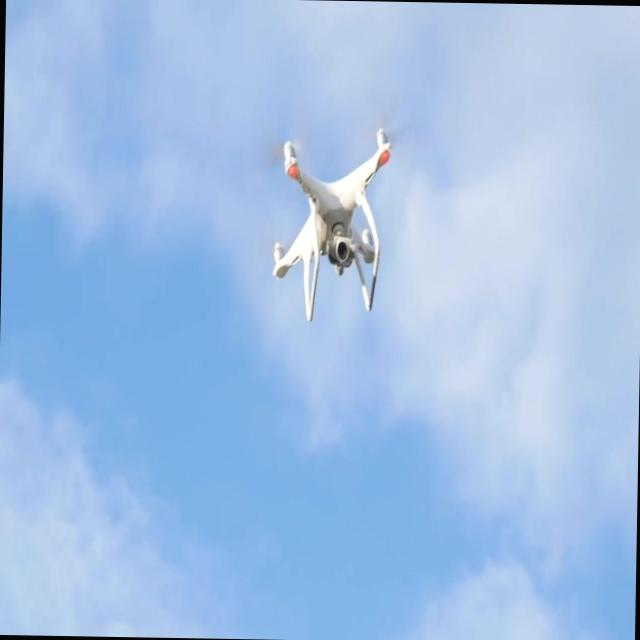drone: (270, 118, 390, 322)
